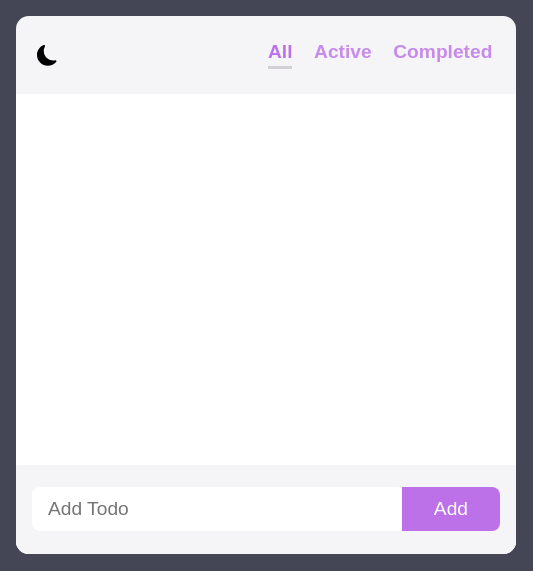
Scenario: Todo App › Todo test › adds new todo at the end
This screenshot has width=533, height=571.
In the field with placeholder "Add Todo": {"x": 217, "y": 509} [32,487,402,531], type "책 읽기"
Click the button "Add": {"x": 451, "y": 509} [402,487,500,531]
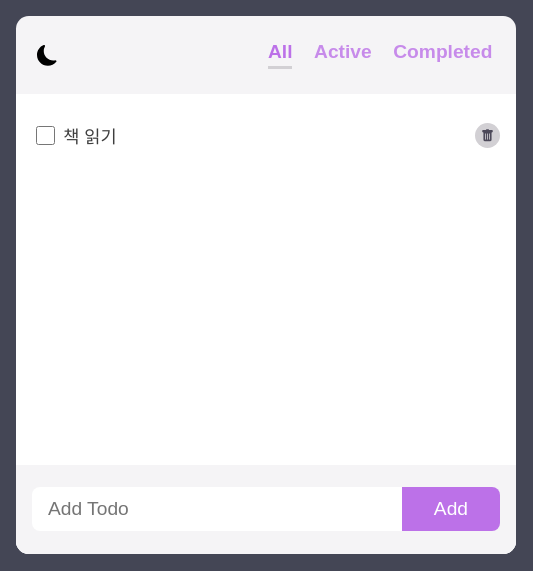
In the field with placeholder "Add Todo": {"x": 217, "y": 509} [32,487,402,531], type "공부하기"
Click the button "Add": {"x": 451, "y": 509} [402,487,500,531]
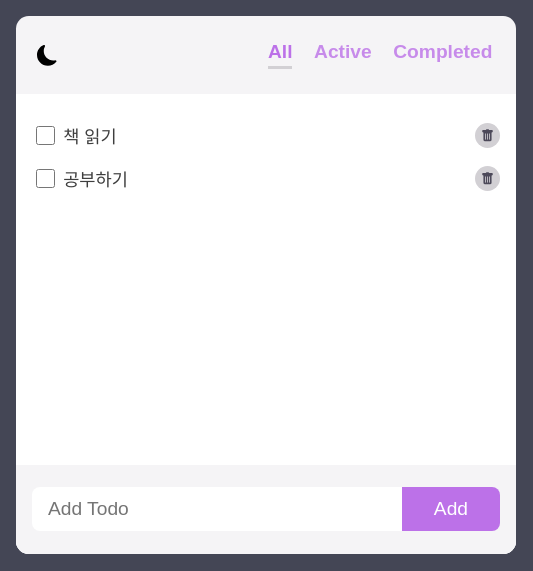
In the field with placeholder "Add Todo": {"x": 217, "y": 509} [32,487,402,531], type "밥 먹기"
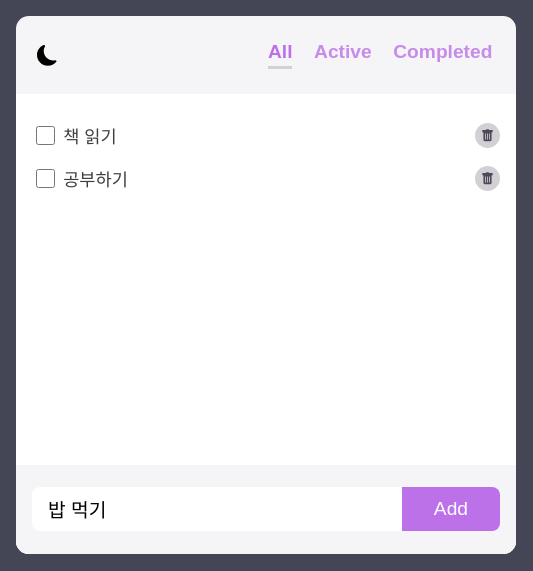
Click the button "Add": {"x": 451, "y": 509} [402,487,500,531]
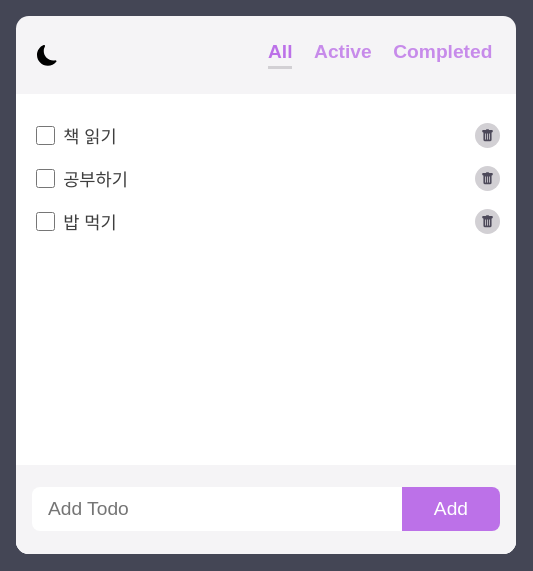
In the field with placeholder "Add Todo": {"x": 217, "y": 509} [32,487,402,531], type "장보기"
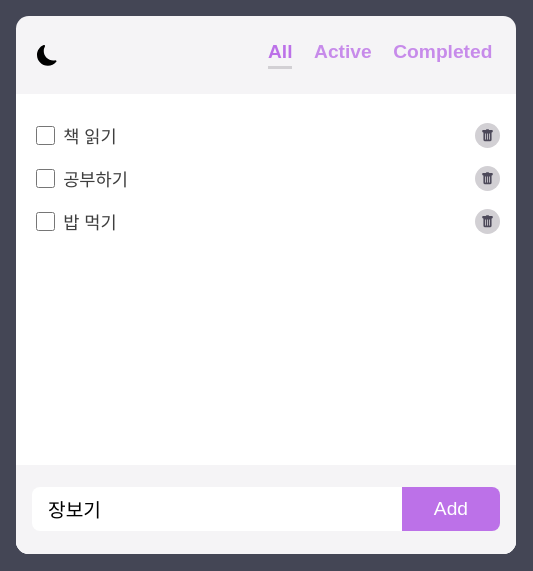
Click the button "Add": {"x": 451, "y": 509} [402,487,500,531]
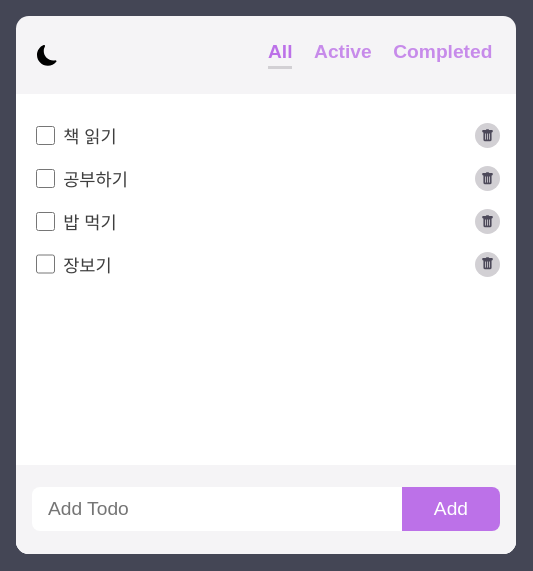
Expected: the element with test id "checkbox" is not checked
Expected: the label with test id "todo-text" reads "장보기", [63,255,112,276]
